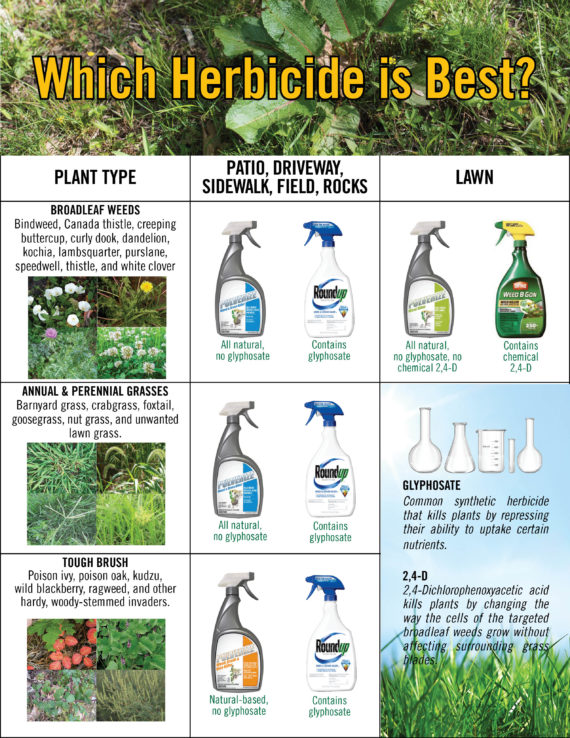crabgrass: (27, 445, 96, 493)
